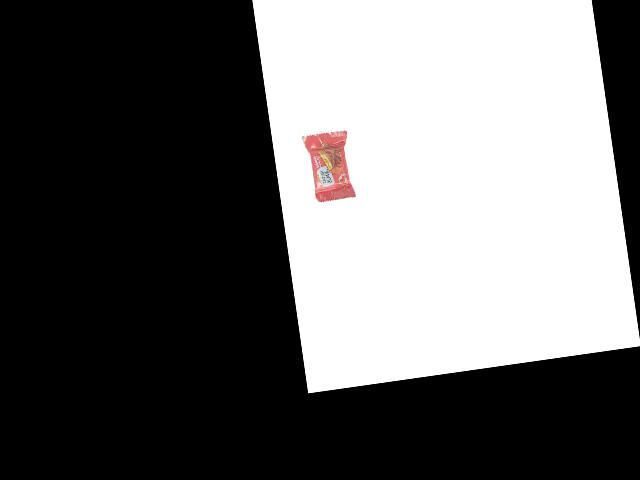chocolate: (297, 129, 356, 210)
